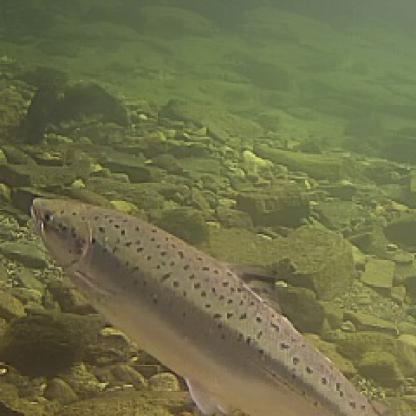salmon: (23, 191, 390, 414)
